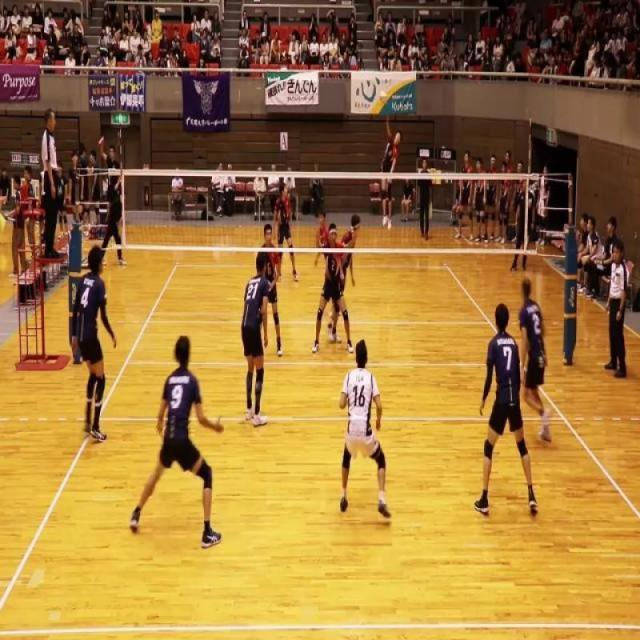volleyball: (378, 89, 388, 102)
